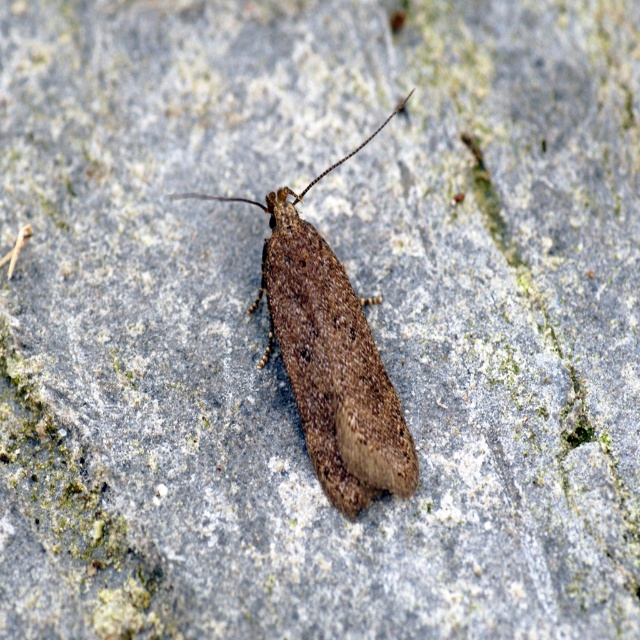Moths and butterflies: (161, 81, 421, 524)
